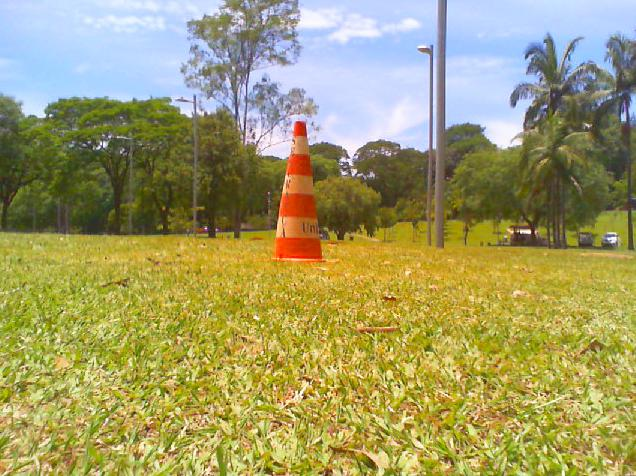0 cone: (262, 120, 330, 264)
